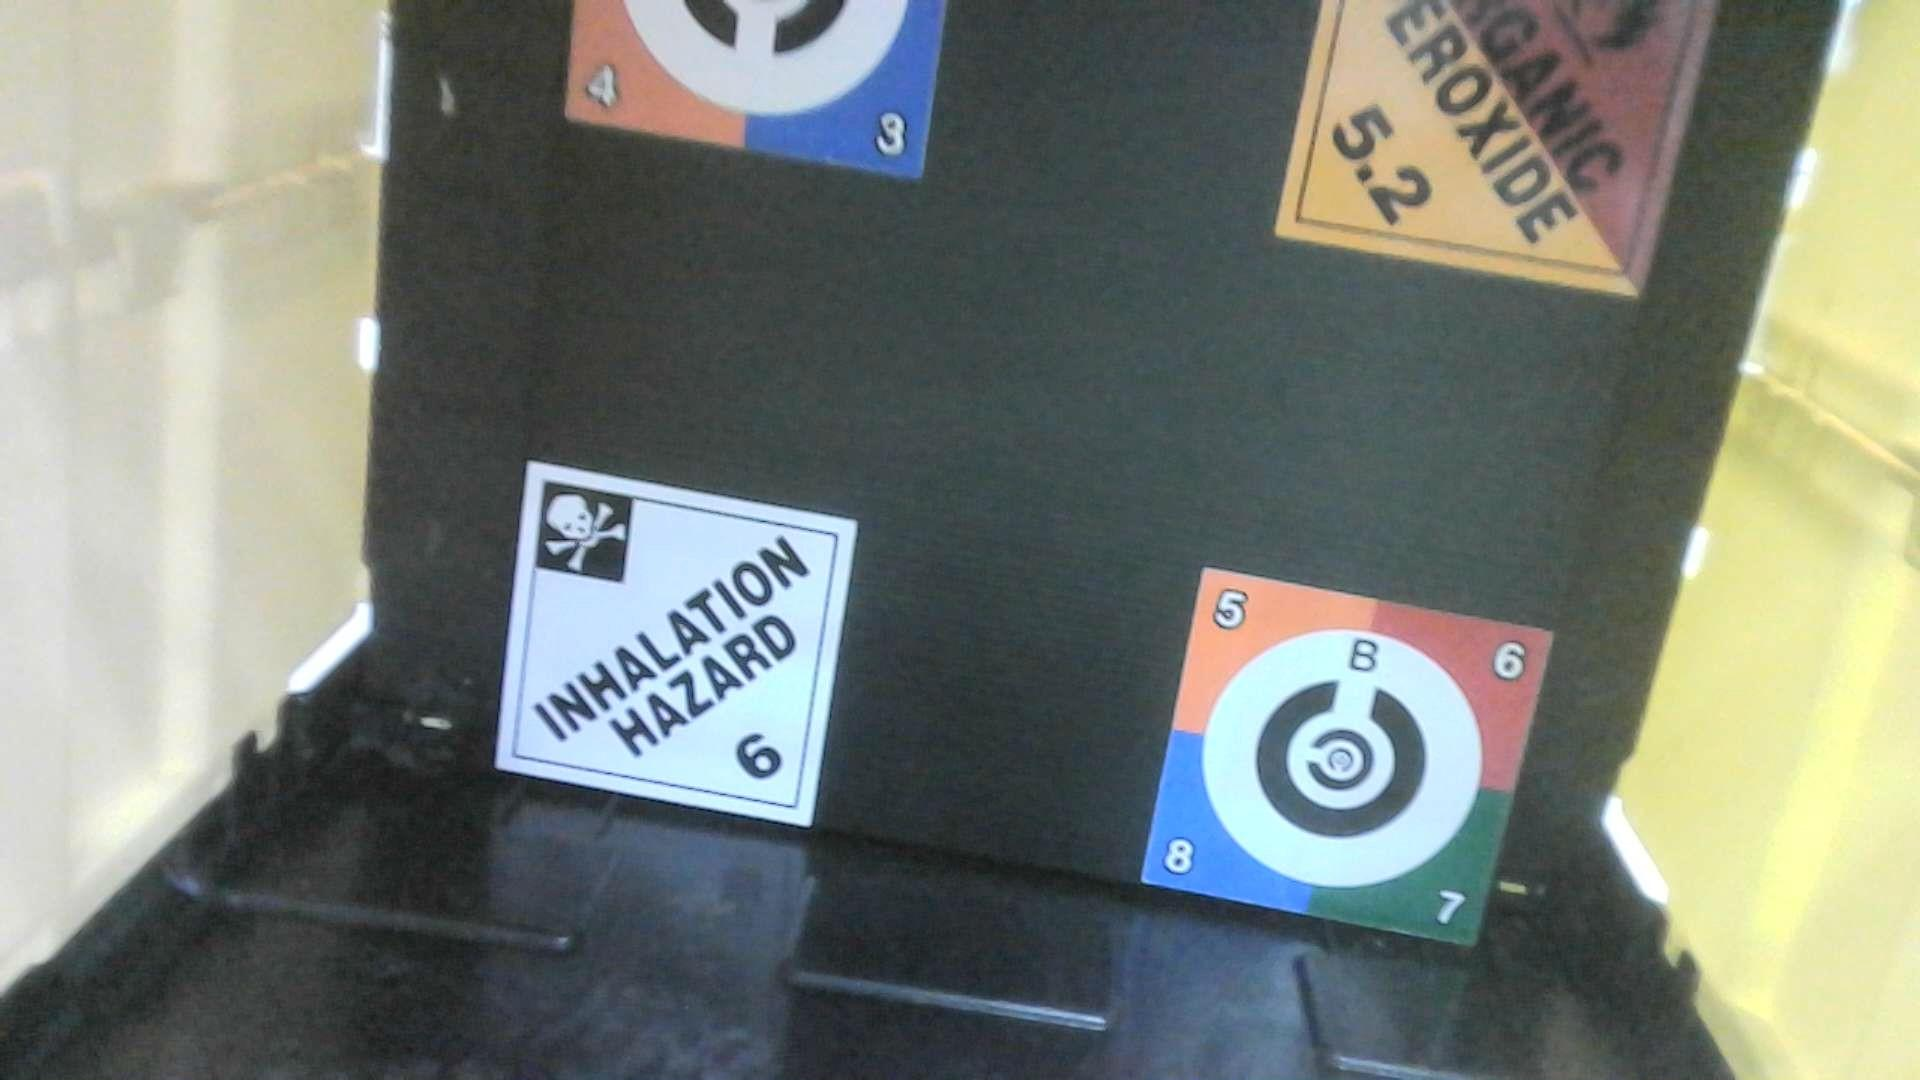organic-peroxide: (1267, 3, 1724, 311)
poison: (483, 452, 862, 840)
